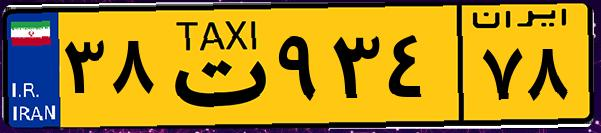3: (330, 28, 385, 110), (57, 26, 110, 100)
4: (385, 28, 445, 110)
7: (475, 38, 525, 113)
8: (525, 38, 570, 115), (110, 28, 158, 98)
9: (270, 28, 330, 110)
ت: (158, 12, 270, 120)
